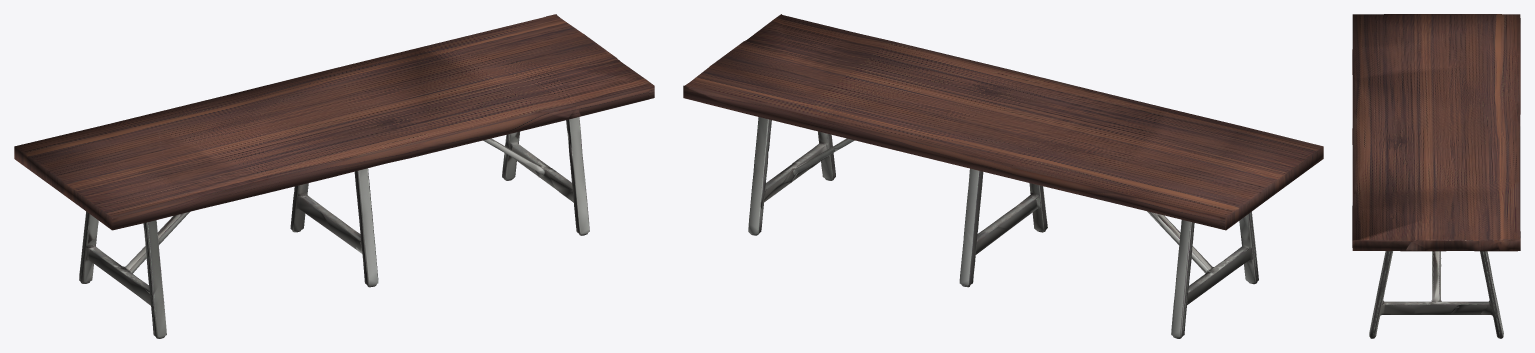
Rendered from table-6-walnut.glb.
3 renders of one model, left to right at view 1: azimuth 30°, elevation 25°; view 2: azimuth 150°, elevation 25°; view 3: azimuth 270°, elevation 25°, orthographic. The views are drawn at different scales.
Visible parts, largest first — view 1: Mesh_0.002; view 2: Mesh_0.002; view 3: Mesh_0.002.
Boxes of the visible parts, x1,y1,x2,y2 form: Mesh_0.002: (14, 14, 654, 338); Mesh_0.002: (683, 14, 1323, 338); Mesh_0.002: (1352, 14, 1520, 338).
Bounding box in the file's own units: 3.97 × 1 × 1.25.
Materials: 1 (1 with a texture image).
